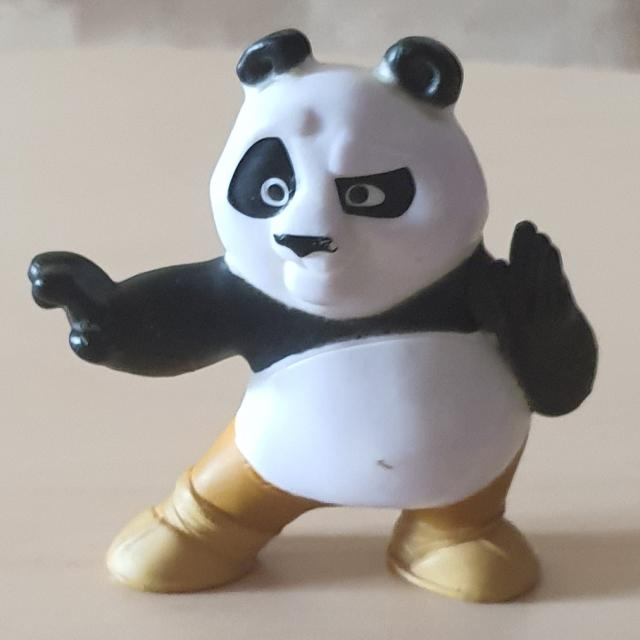Panda: (26, 27, 599, 604)
